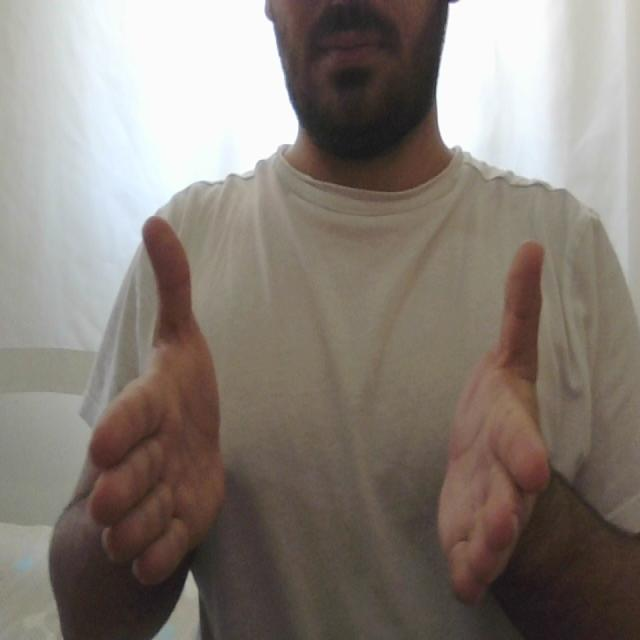Nasil: (77, 199, 571, 607)
